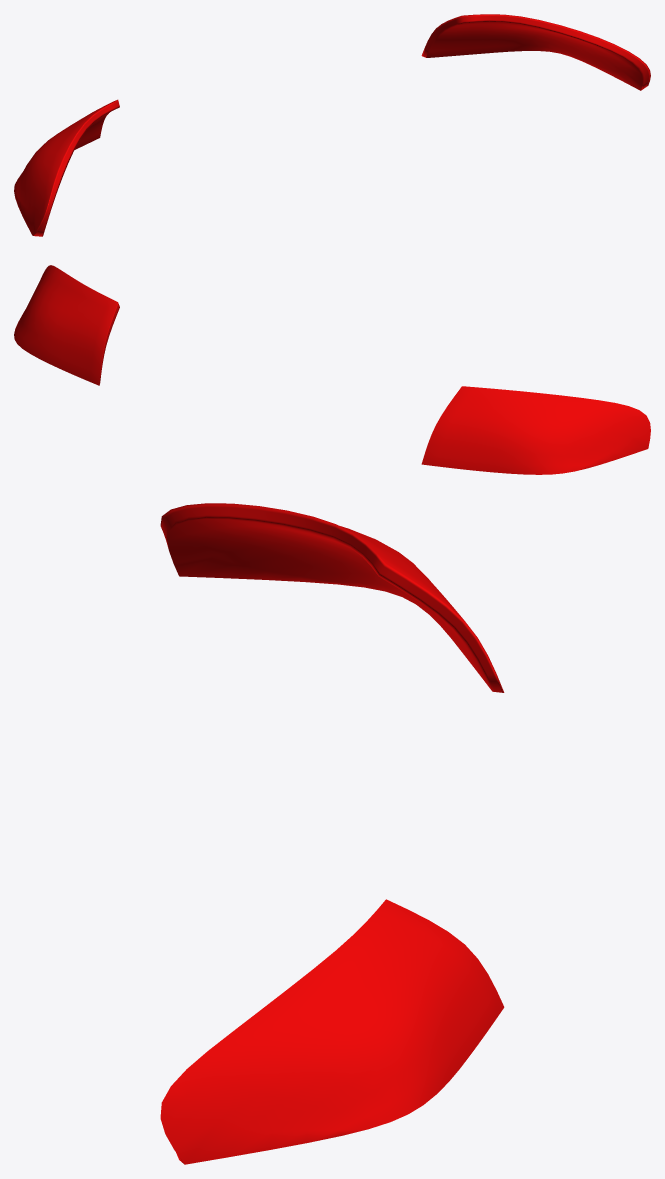
The model's file is PorscheRearLights.obj.
The picture shows the model from 3 angles, top to bottom: view 1: azimuth 30°, elevation 25°; view 2: azimuth 150°, elevation 25°; view 3: azimuth 270°, elevation 25°; orthographic projection. The views are drawn at different scales.
Visible parts, largest first — view 1: polySurface85; view 2: polySurface85; view 3: polySurface85.
Part boxes in pixels (x1=…): polySurface85: x1=14, y1=14, x2=650, y2=236; polySurface85: x1=14, y1=265, x2=650, y2=474; polySurface85: x1=160, y1=503, x2=504, y2=1164.
Bounding box in the file's own units: 4.38 × 0.4646 × 1.06.
